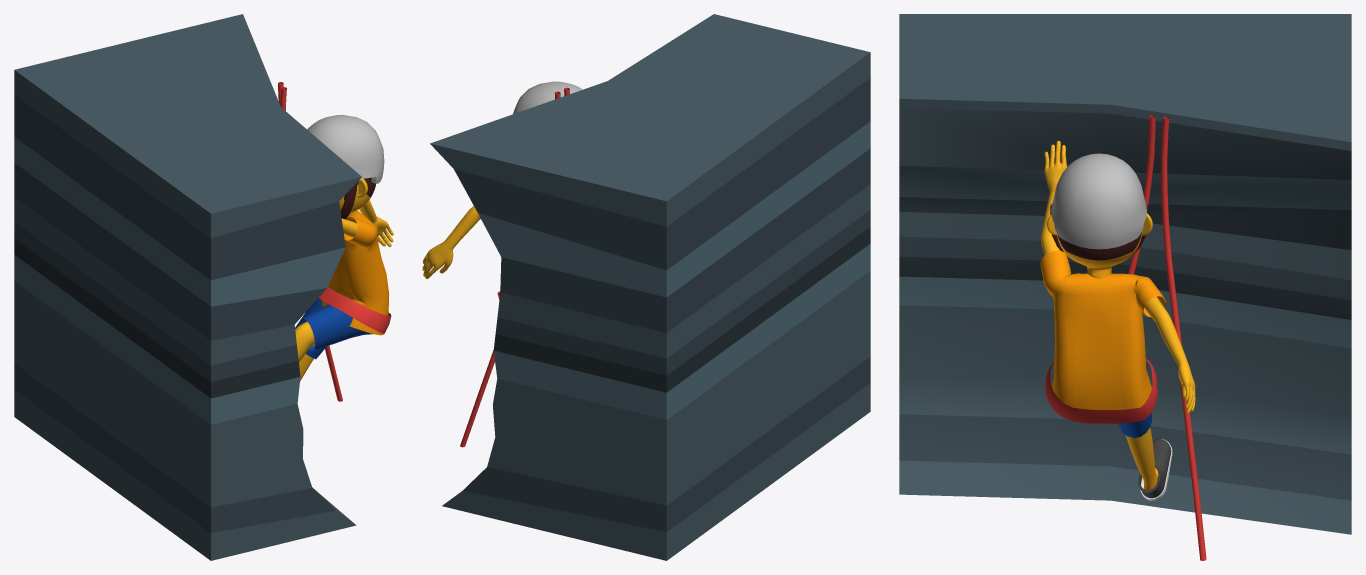
Rendered from man_climbing.fbx.
The picture shows the model from 3 angles, left to right: view 1: azimuth 30°, elevation 25°; view 2: azimuth 150°, elevation 25°; view 3: azimuth 270°, elevation 25°; orthographic projection. The views are drawn at different scales.
Visible parts, largest first — view 1: Cube.024, Circle.047, Cube.031, Circle.052; view 2: Cube.024, Circle.047, Cube.031, Circle.052; view 3: Cube.024, Circle.047, Cube.031, Circle.052, Roundcube.445, Sphere.013.
Boxes of the visible parts, x1,y1,x2,y2 form: Cube.024: [14, 14, 361, 560]; Circle.047: [295, 200, 393, 381]; Cube.031: [307, 115, 384, 183]; Circle.052: [278, 82, 391, 401]; Cube.024: [430, 14, 870, 560]; Circle.047: [422, 206, 480, 278]; Cube.031: [513, 81, 582, 113]; Circle.052: [460, 87, 569, 447]; Cube.024: [899, 14, 1351, 534]; Circle.047: [1040, 141, 1195, 489]; Cube.031: [1051, 153, 1146, 249]; Circle.052: [1045, 115, 1206, 560]; Roundcube.445: [1057, 231, 1142, 279]; Sphere.013: [1138, 439, 1172, 500].
Size of the model in its own units: 212 by 229 by 235.
Materials: 2 (2 with a texture image).
